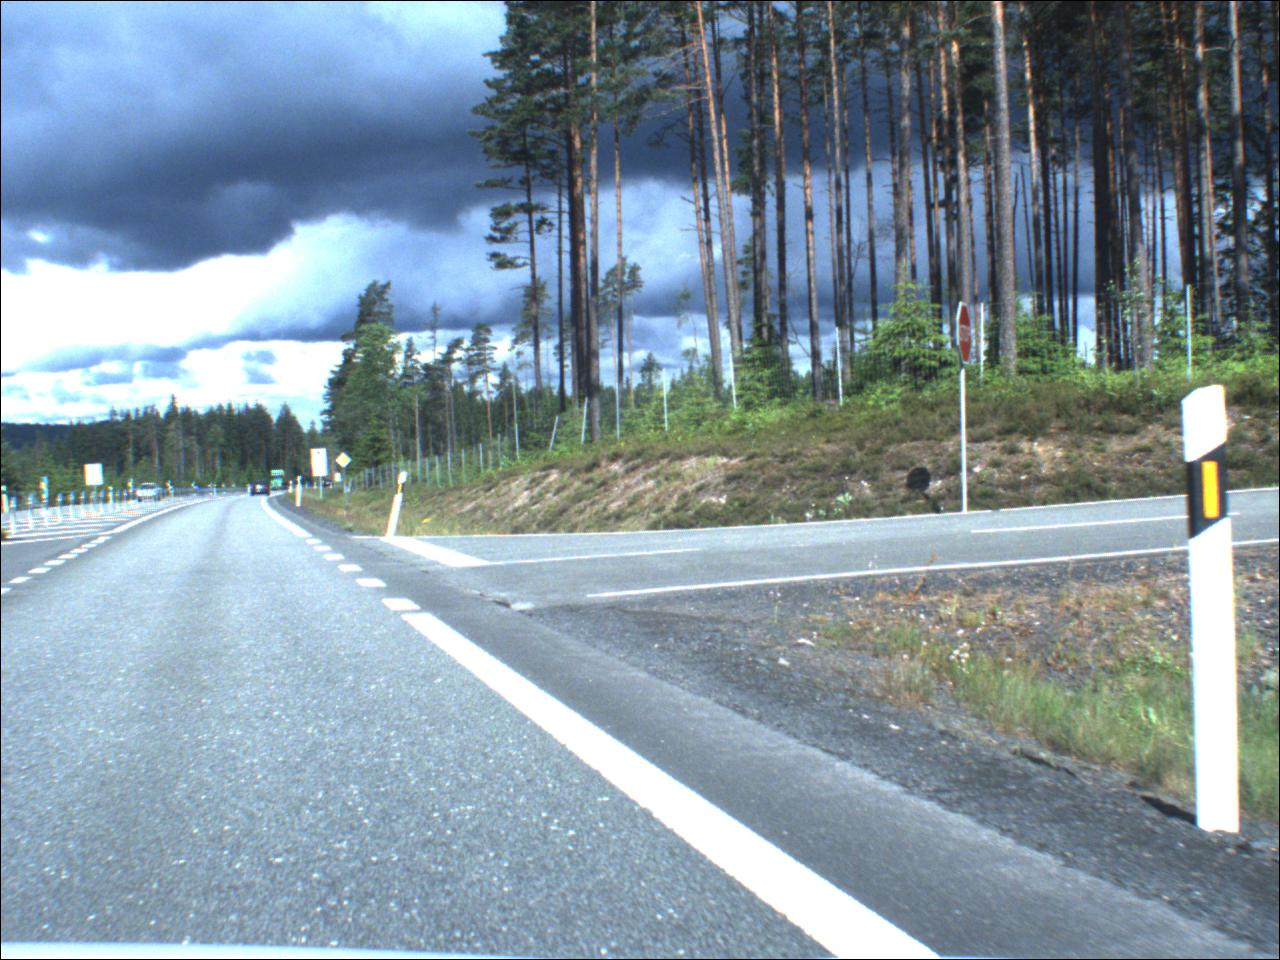PRIORITY_ROAD: (338, 454, 356, 471)
STOP: (958, 303, 977, 368)
